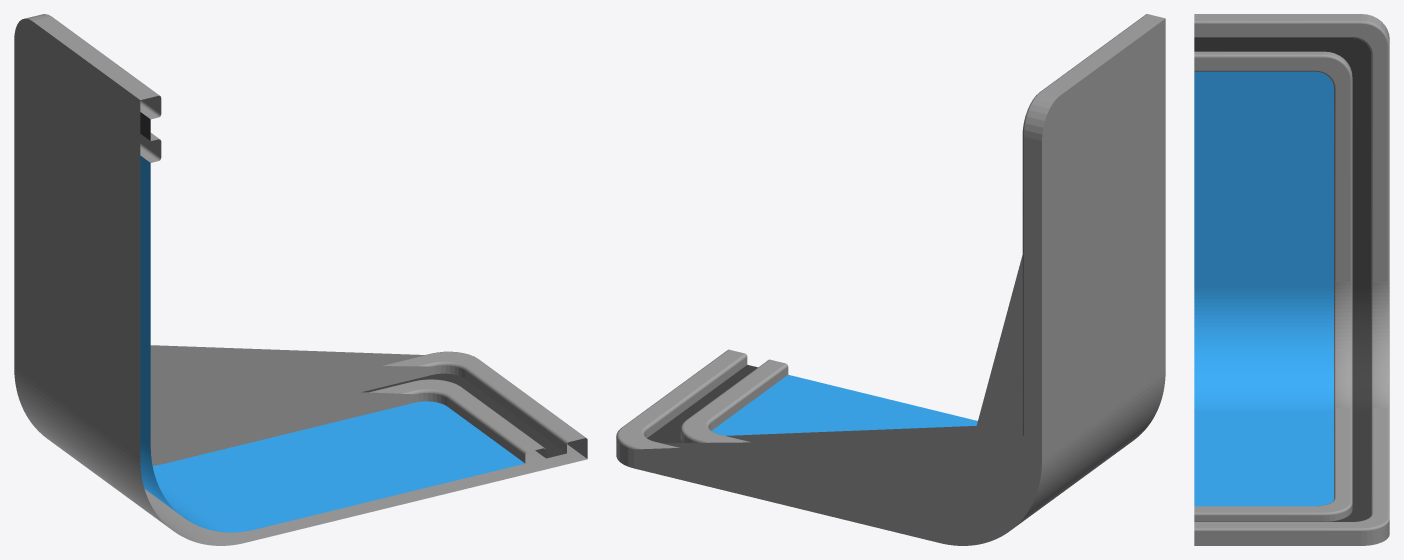
The model's file is SM_Base_Side.fbx.
3 renders of one model, left to right at view 1: azimuth 30°, elevation 25°; view 2: azimuth 150°, elevation 25°; view 3: azimuth 270°, elevation 25°, orthographic. The views are drawn at different scales.
Parts seen in each view (by area): view 1: SM_Base_Side; view 2: SM_Base_Side; view 3: SM_Base_Side.
Boxes of the visible parts, box(x1,y1,x2,y2) form: SM_Base_Side: box(14, 14, 587, 545); SM_Base_Side: box(616, 14, 1165, 545); SM_Base_Side: box(1194, 14, 1389, 545).
Size of the model in its own units: 4.3 by 4.3 by 2.1.
